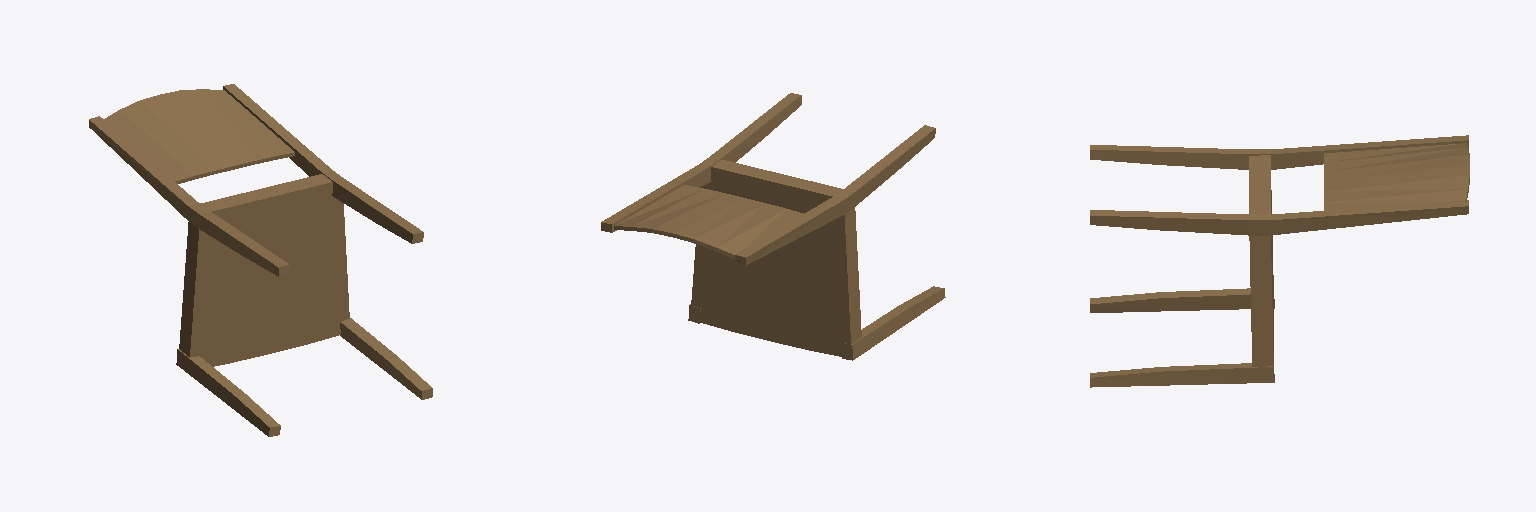
Rendered from CADEIRA2a.obj.
3 views of the same model, side by side, from view 1: azimuth 30°, elevation 25°; view 2: azimuth 150°, elevation 25°; view 3: azimuth 270°, elevation 25° (orthographic).
Size of the model in its own units: 0.4412 by 0.4717 by 0.8837.